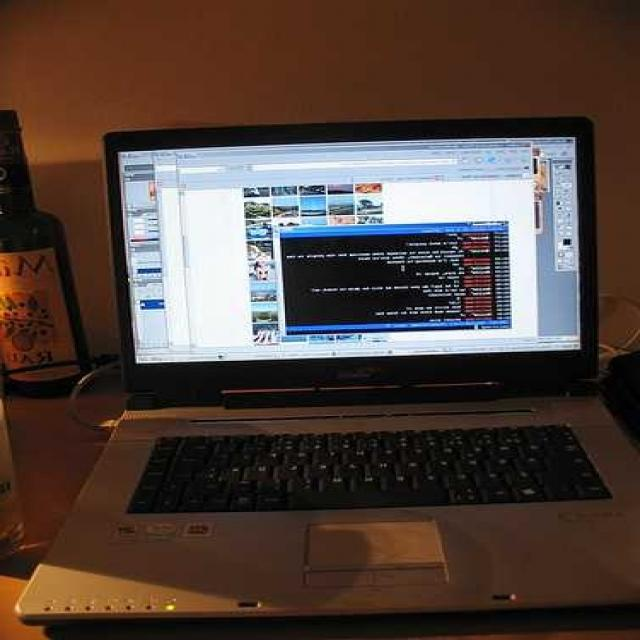laptop: (83, 123, 608, 622)
